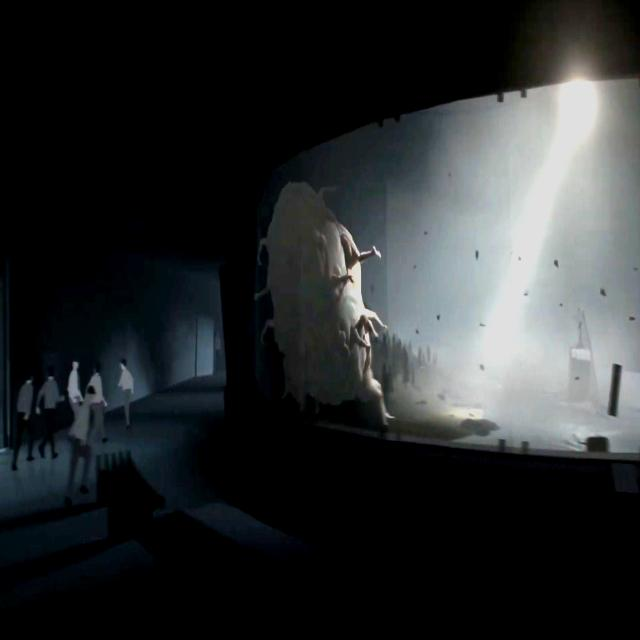blob: (255, 180, 394, 426)
human: (65, 386, 95, 506), (11, 368, 35, 474), (38, 367, 65, 457), (89, 359, 108, 442), (119, 361, 136, 430), (70, 359, 83, 419)
